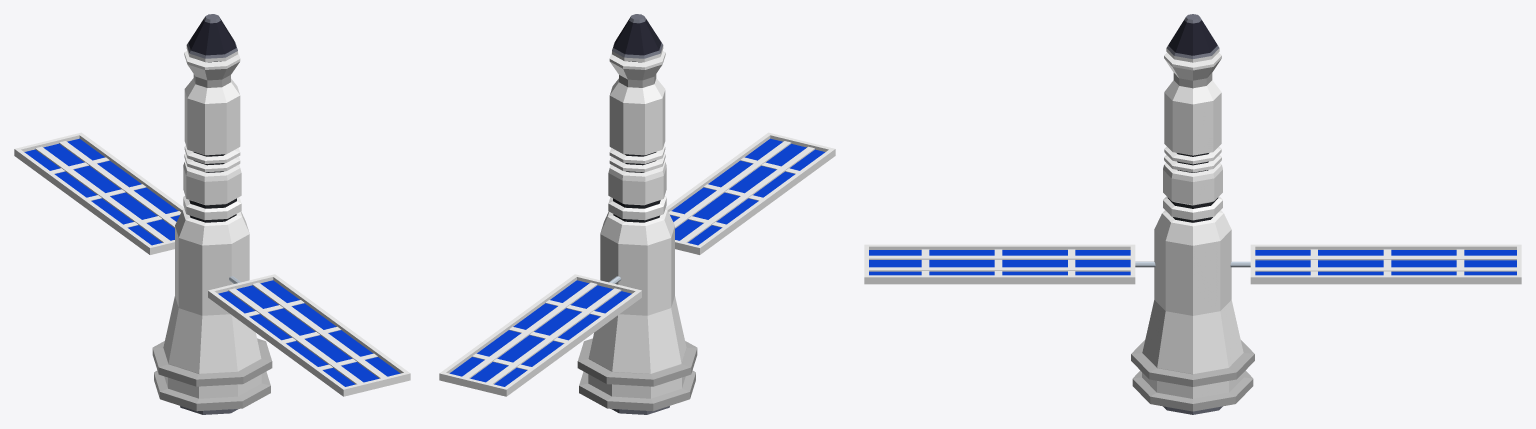
Rendered from Satellite5.glb.
3 views of the same model, side by side, from view 1: azimuth 30°, elevation 25°; view 2: azimuth 150°, elevation 25°; view 3: azimuth 270°, elevation 25° (orthographic).
Visible parts, largest first — view 1: Satellite5-main, Satellite5-PanelRight, Satellite5-PanelLeft; view 2: Satellite5-main, Satellite5-PanelLeft, Satellite5-PanelRight; view 3: Satellite5-main, Satellite5-PanelLeft, Satellite5-PanelRight.
Boxes of the visible parts, x1,y1,x2,y2 form: Satellite5-main: (152, 14, 272, 414); Satellite5-PanelRight: (208, 274, 410, 396); Satellite5-PanelLeft: (14, 132, 184, 254); Satellite5-main: (577, 14, 697, 414); Satellite5-PanelLeft: (439, 274, 641, 396); Satellite5-PanelRight: (665, 132, 835, 254); Satellite5-main: (1131, 14, 1254, 414); Satellite5-PanelLeft: (1230, 244, 1521, 284); Satellite5-PanelRight: (864, 244, 1155, 284).
Bounding box in the file's own units: 3.2 × 10.91 × 16.99.
